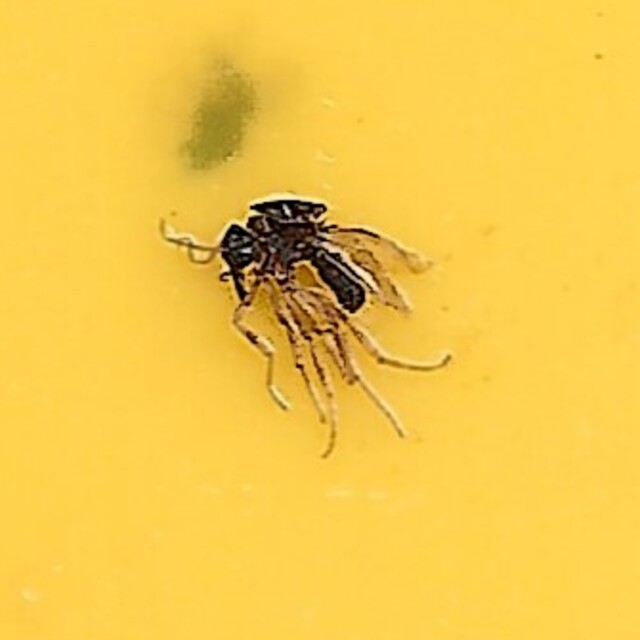Brachycera: (191, 189, 449, 451)
